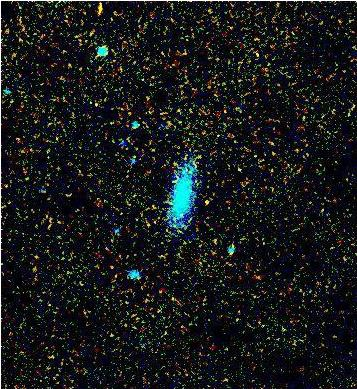star: (190, 188, 220, 218)
